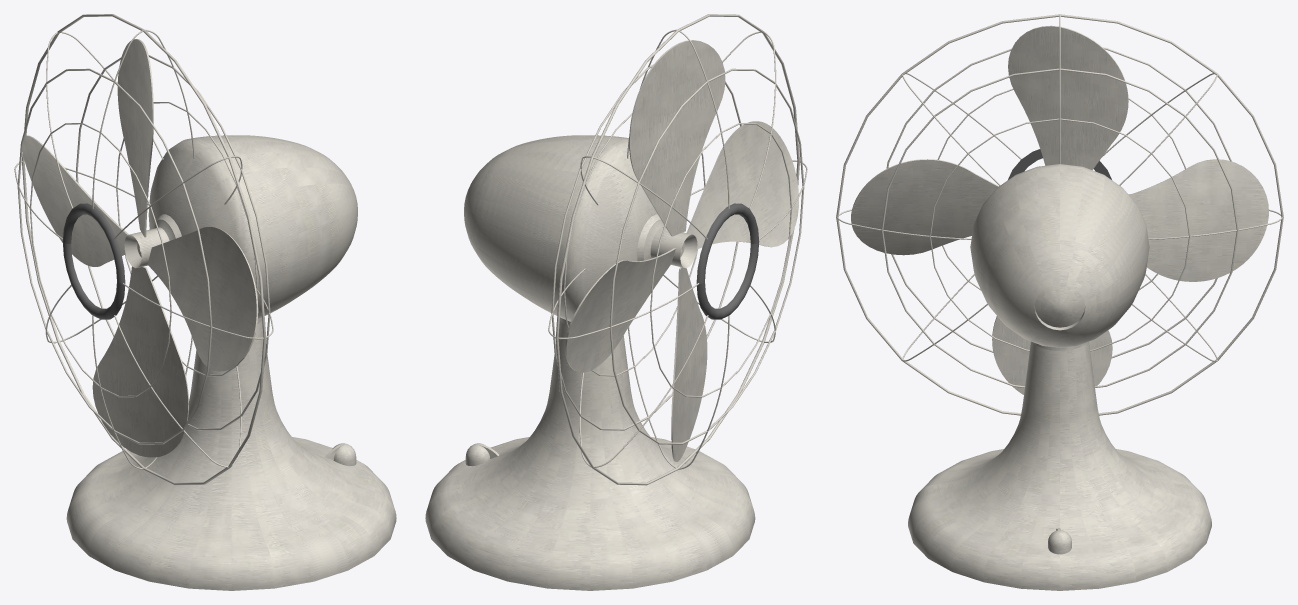
The model's file is ventilador.dae.
3 views of the same model, side by side, from view 1: azimuth 30°, elevation 25°; view 2: azimuth 150°, elevation 25°; view 3: azimuth 270°, elevation 25° (orthographic). The views are drawn at different scales.
Parts seen in each view (by area): view 1: Componente_12_1, Componente_11_1, Componente_3_2, Componente_3_1, Componente_3_4, Componente_3_3, Componente_4_1, Componente_5_1, Componente_4_3, Componente_4_4, Componente_4_2, Componente_4_6 (+2 smaller); view 2: Componente_12_1, Componente_11_1, Componente_3_3, Componente_3_1, Componente_3_4, Componente_3_2, Componente_4_1, Componente_5_1, Componente_4_3, Componente_4_4, Componente_4_2, Componente_2_1 (+2 smaller); view 3: Componente_12_1, Componente_11_1, Componente_3_3, Componente_3_4, Componente_3_1, Componente_4_6, Componente_3_2, Componente_4_4, Componente_4_3, Componente_4_5.
Part boxes in pixels (<box>): Componente_12_1: <box>66,319,396,590</box>; Componente_11_1: <box>148,135,357,324</box>; Componente_3_2: <box>92,266,188,457</box>; Componente_3_1: <box>147,227,258,371</box>; Componente_3_4: <box>22,135,128,266</box>; Componente_3_3: <box>117,39,153,237</box>; Componente_4_1: <box>22,14,265,485</box>; Componente_5_1: <box>62,203,125,319</box>; Componente_4_3: <box>17,68,212,444</box>; Componente_4_4: <box>76,55,270,430</box>; Componente_4_2: <box>29,123,171,397</box>; Componente_4_6: <box>24,14,266,482</box>; Componente_12_1: <box>425,319,755,590</box>; Componente_11_1: <box>464,135,665,326</box>; Componente_3_3: <box>629,40,725,236</box>; Componente_3_1: <box>686,121,798,249</box>; Componente_3_4: <box>565,248,675,372</box>; Componente_3_2: <box>671,267,707,461</box>; Componente_4_1: <box>556,14,799,485</box>; Componente_5_1: <box>696,203,759,319</box>; Componente_4_3: <box>609,68,804,444</box>; Componente_4_4: <box>551,64,741,430</box>; Componente_4_2: <box>650,123,792,397</box>; Componente_2_1: <box>650,227,697,268</box>; Componente_12_1: <box>908,341,1211,590</box>; Componente_11_1: <box>970,164,1149,350</box>; Componente_3_3: <box>1008,25,1128,170</box>; Componente_3_4: <box>1129,159,1268,281</box>; Componente_3_1: <box>851,159,998,255</box>; Componente_4_6: <box>836,14,1283,415</box>; Componente_3_2: <box>992,316,1112,394</box>; Componente_4_4: <box>881,68,1238,387</box>; Componente_4_3: <box>886,47,1231,358</box>; Componente_4_5: <box>929,118,1190,351</box>.
Size of the model in its own units: 579 by 853 by 998.
Materials: 3 (1 with a texture image).
